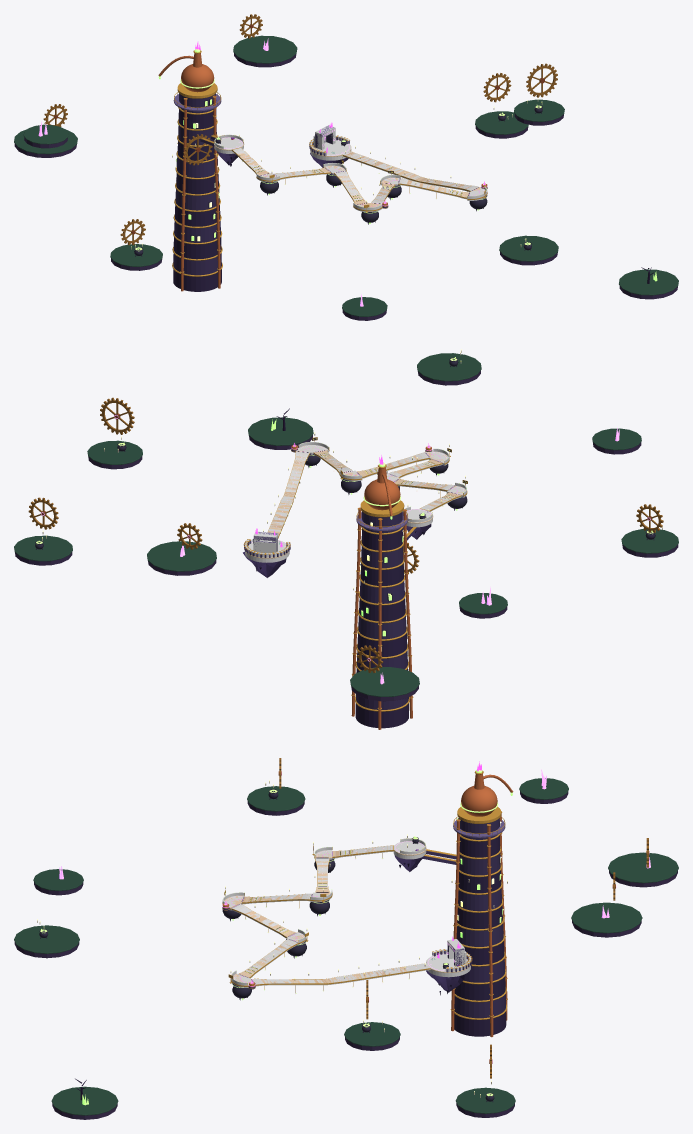
3 renders of one model, top to bottom at view 1: azimuth 30°, elevation 25°; view 2: azimuth 150°, elevation 25°; view 3: azimuth 270°, elevation 25°, orthographic. The views are drawn at different scales.
Parts seen in each view (by area): view 1: V_grass_dark, V_rock, V_stone_dark, C_0, V_brass, V_copper, V_dirt, V_iron, V_walk, C_1, V_brass.002, V_glow_green (+1 smaller); view 2: V_grass_dark, V_rock, V_stone_dark, C_0, V_copper, V_brass, V_dirt, V_walk, V_iron, V_brass.002; view 3: V_grass_dark, V_rock, V_stone_dark, C_0, V_brass, V_copper, V_dirt, V_iron, V_walk, C_1, C_2.
Boxes of the visible parts, <box> form: V_grass_dark: <box>14,35,678,316</box>; V_rock: <box>173,109,348,291</box>; V_stone_dark: <box>173,93,487,275</box>; C_0: <box>214,137,486,211</box>; V_brass: <box>172,50,487,276</box>; V_copper: <box>158,51,487,291</box>; V_dirt: <box>14,53,677,320</box>; V_iron: <box>134,98,542,256</box>; V_walk: <box>214,143,485,207</box>; C_1: <box>214,134,487,210</box>; V_brass.002: <box>526,63,557,97</box>; V_glow_green: <box>135,49,657,281</box>; V_grass_dark: <box>14,353,678,697</box>; V_rock: <box>243,524,431,728</box>; V_stone_dark: <box>244,448,432,709</box>; C_0: <box>268,445,466,535</box>; V_copper: <box>291,445,431,729</box>; V_brass: <box>243,437,467,711</box>; V_dirt: <box>15,370,678,701</box>; V_walk: <box>245,445,465,558</box>; V_iron: <box>35,357,655,652</box>; V_brass.002: <box>100,397,134,434</box>; V_grass_dark: <box>14,778,678,1115</box>; V_rock: <box>394,835,506,1036</box>; V_stone_dark: <box>222,818,505,1018</box>; C_0: <box>224,841,432,987</box>; V_brass: <box>222,770,507,1019</box>; V_copper: <box>222,774,513,1037</box>; V_dirt: <box>14,791,677,1119</box>; V_iron: <box>39,789,502,1101</box>; V_walk: <box>224,846,470,984</box>; C_1: <box>222,838,425,985</box>; C_2: <box>426,954,470,977</box>.
Size of the model in its own units: 158 by 71.51 by 163.
